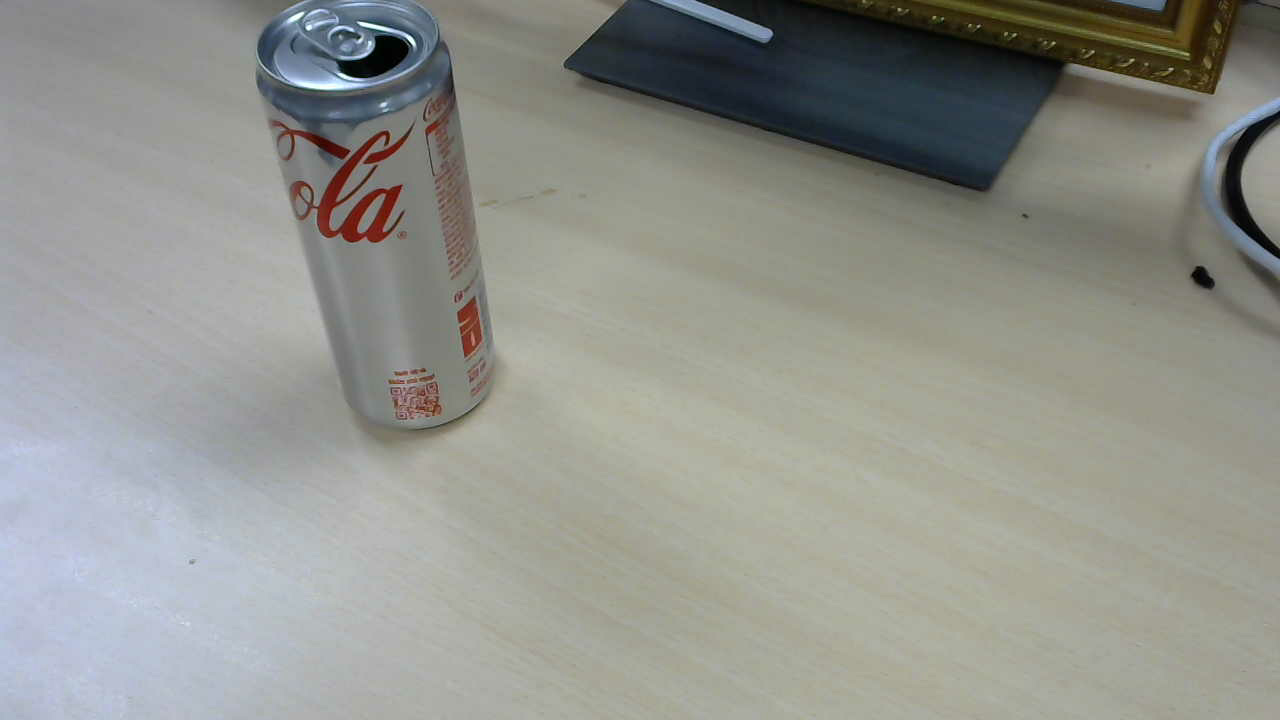Coca_Cola: (259, 4, 504, 437)
